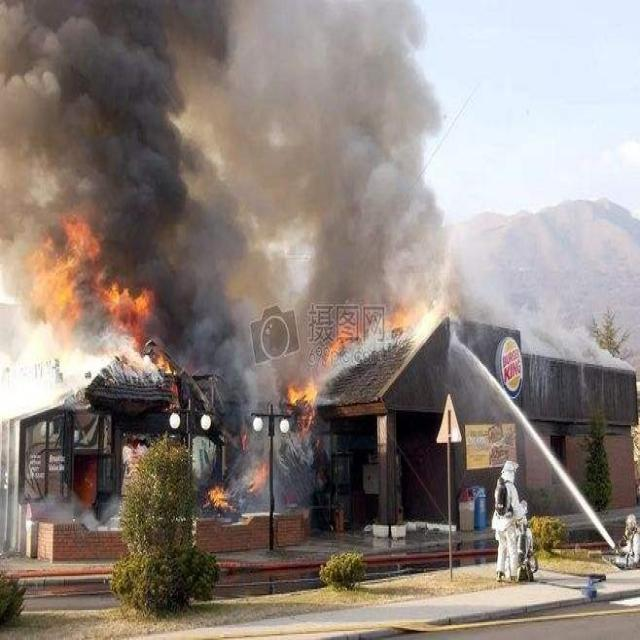Fire: (20, 216, 152, 348), (284, 380, 316, 432), (325, 326, 361, 366), (206, 482, 232, 509), (154, 352, 178, 376), (246, 466, 264, 490)
Smoke: (1, 2, 637, 220), (331, 220, 640, 316), (152, 222, 326, 360)
